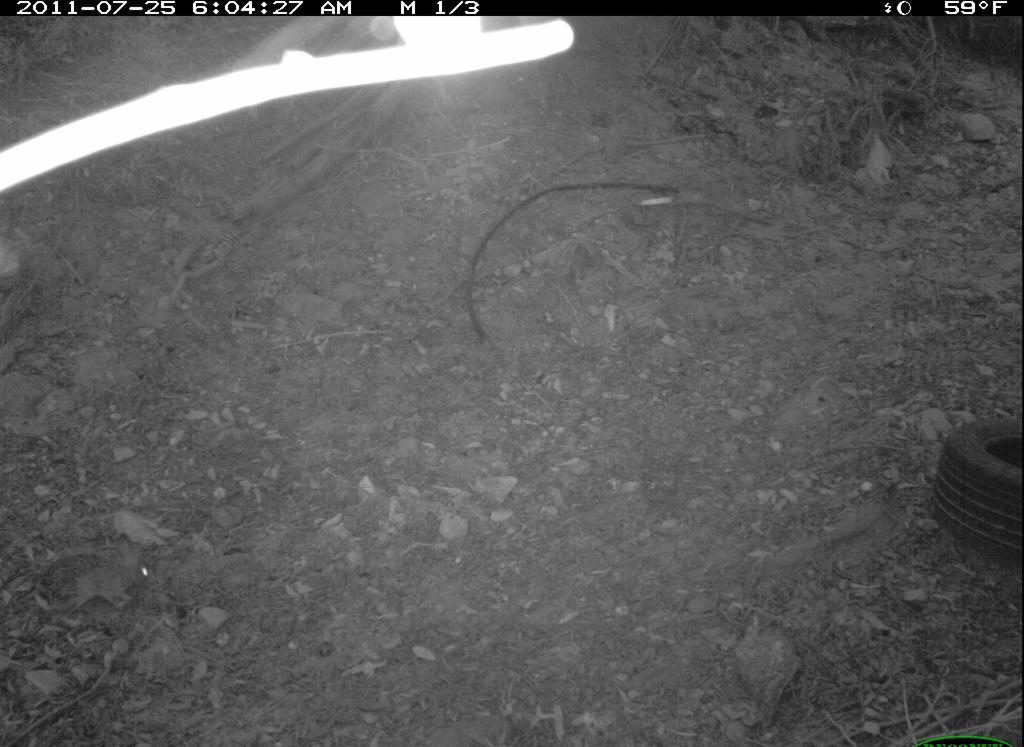rabbit: (31, 528, 162, 630)
